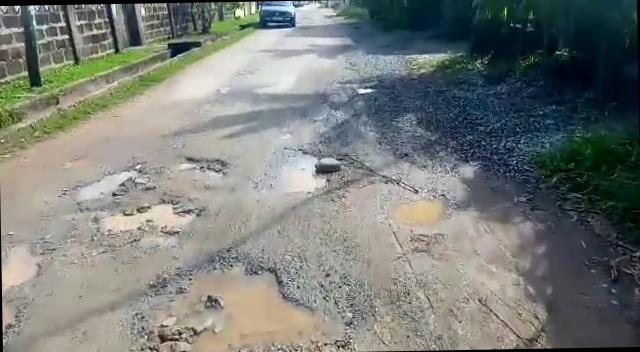pothole: (131, 254, 368, 352), (64, 162, 148, 202), (110, 200, 200, 233), (266, 148, 326, 195), (386, 190, 454, 228), (1, 243, 44, 294), (176, 154, 232, 176), (2, 296, 20, 340)
